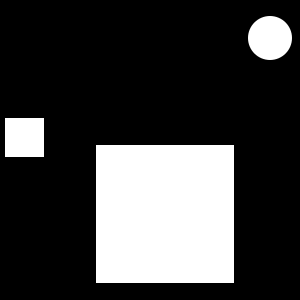circle: (96, 145, 234, 283), (5, 118, 44, 157)
rectangle: (248, 16, 292, 60)
